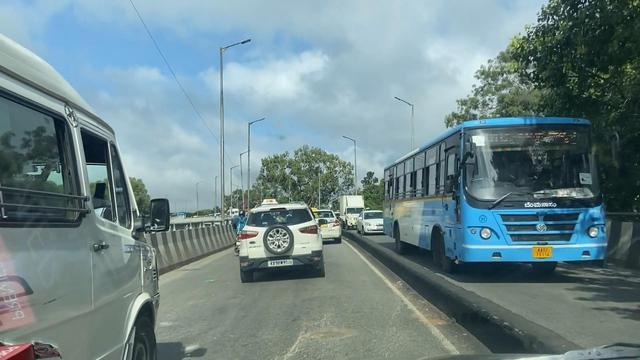LMV: (239, 208, 324, 272)
UnsurfacedRoad: (279, 315, 362, 359)
